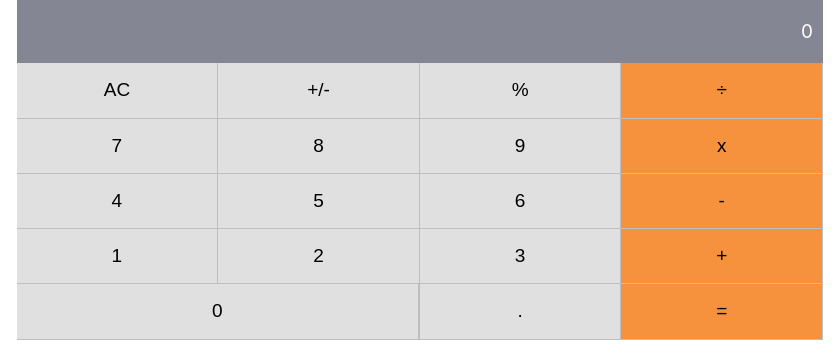
Test: User interaction button clicks in Calculator component › should display 2. when . button is clicked
Click the button "2" at [318, 256], box [218,229,419,283]
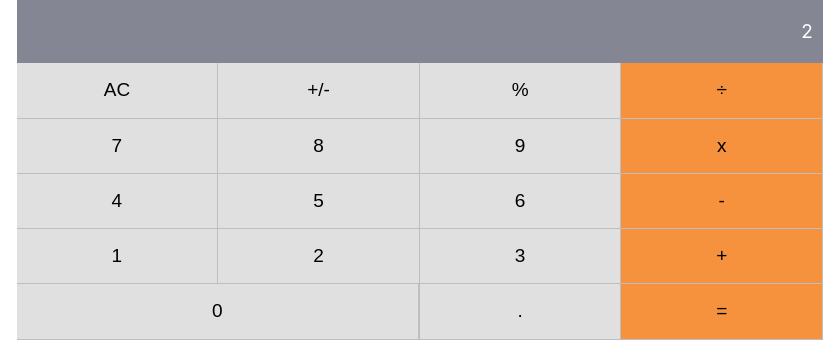
Click the button "." at [520, 311], box [420,284,620,339]
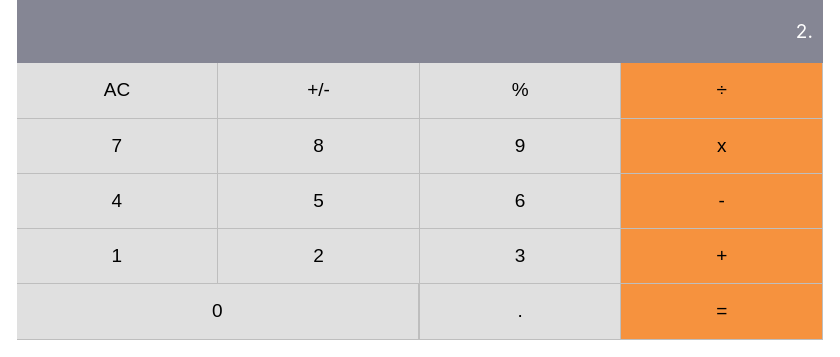
Expected: the button "4" is shown, [17,174,217,228]
Now the text "2." is shown, box [17,0,823,63]
